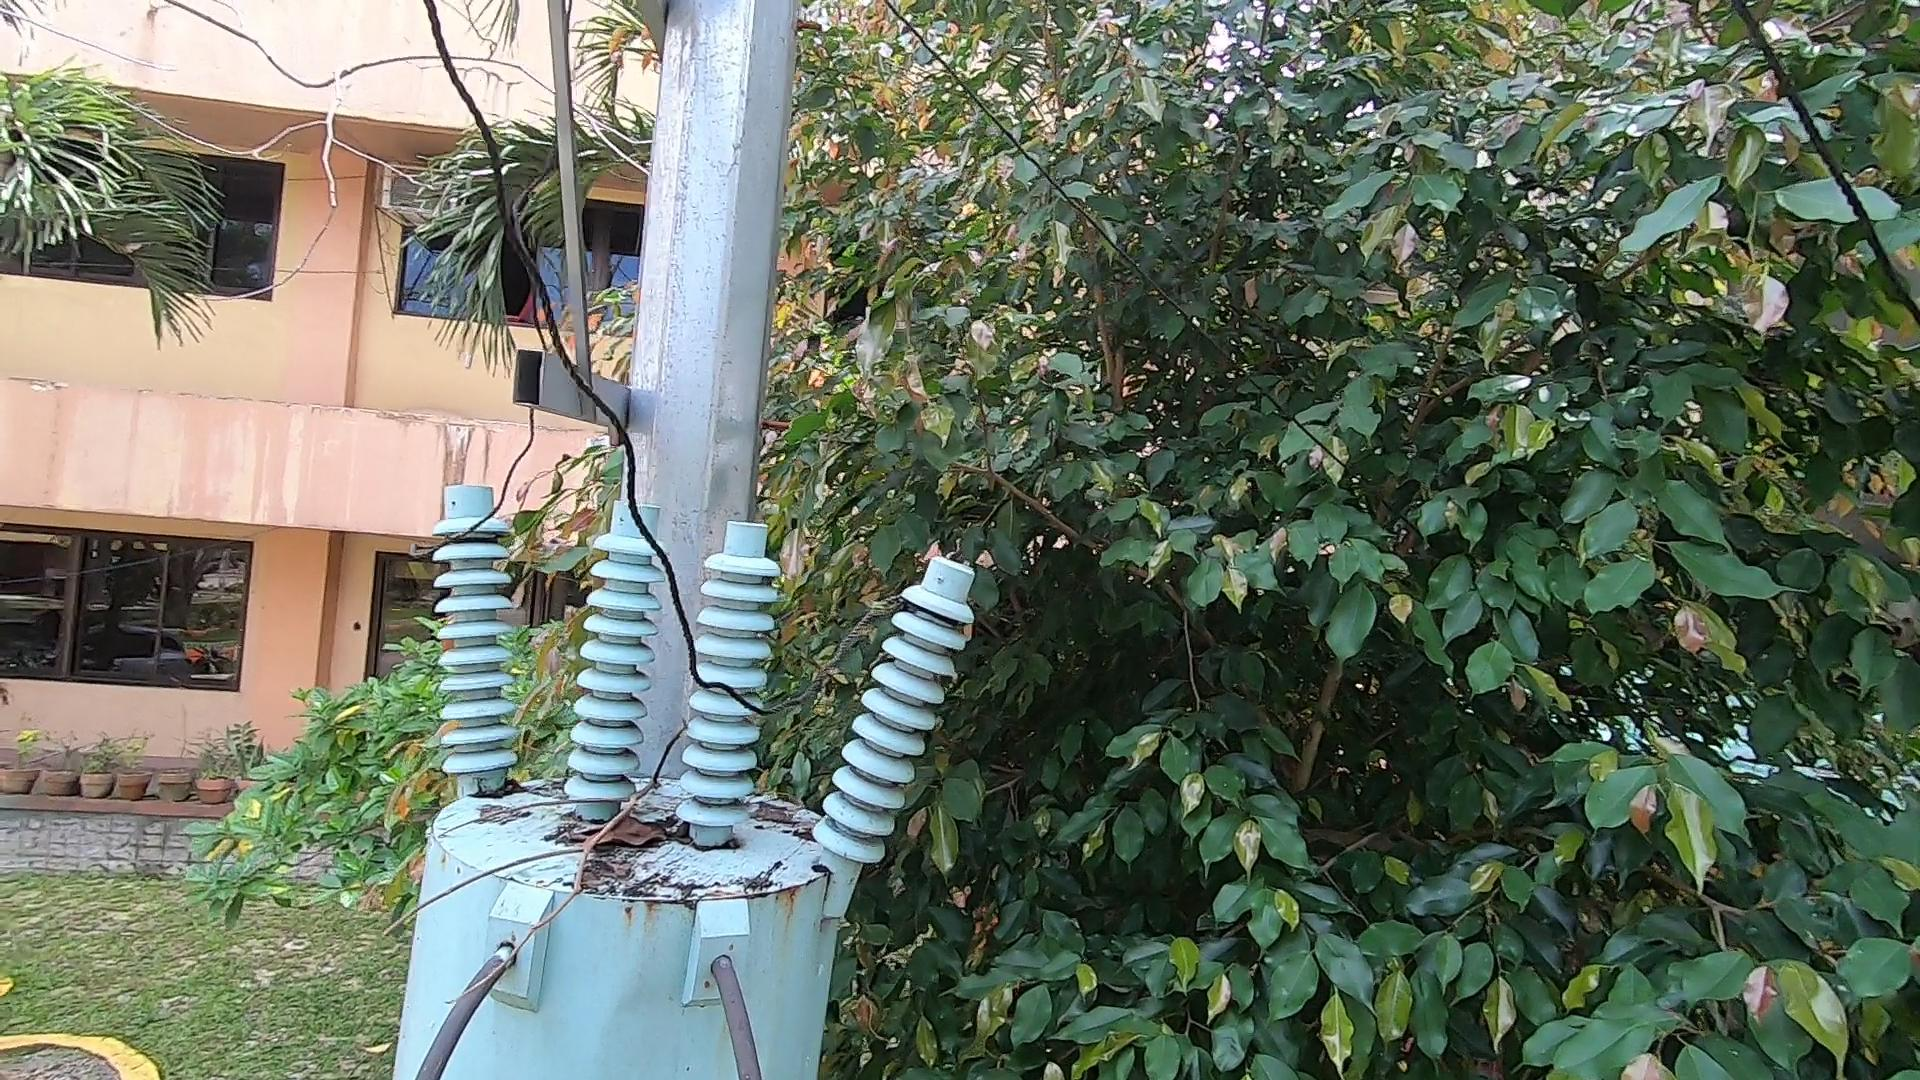leaf: (556, 816, 679, 857), (746, 782, 815, 844), (467, 764, 527, 802)
tree branch: (382, 675, 702, 1004)
